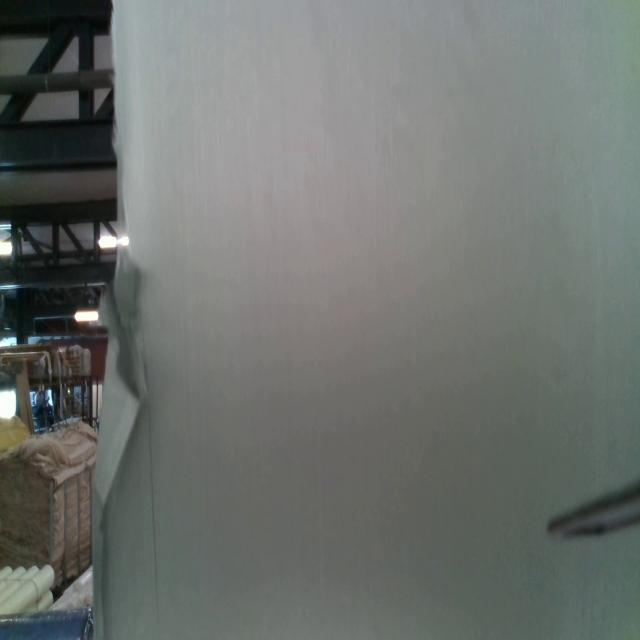crease: (146, 381, 160, 626)
